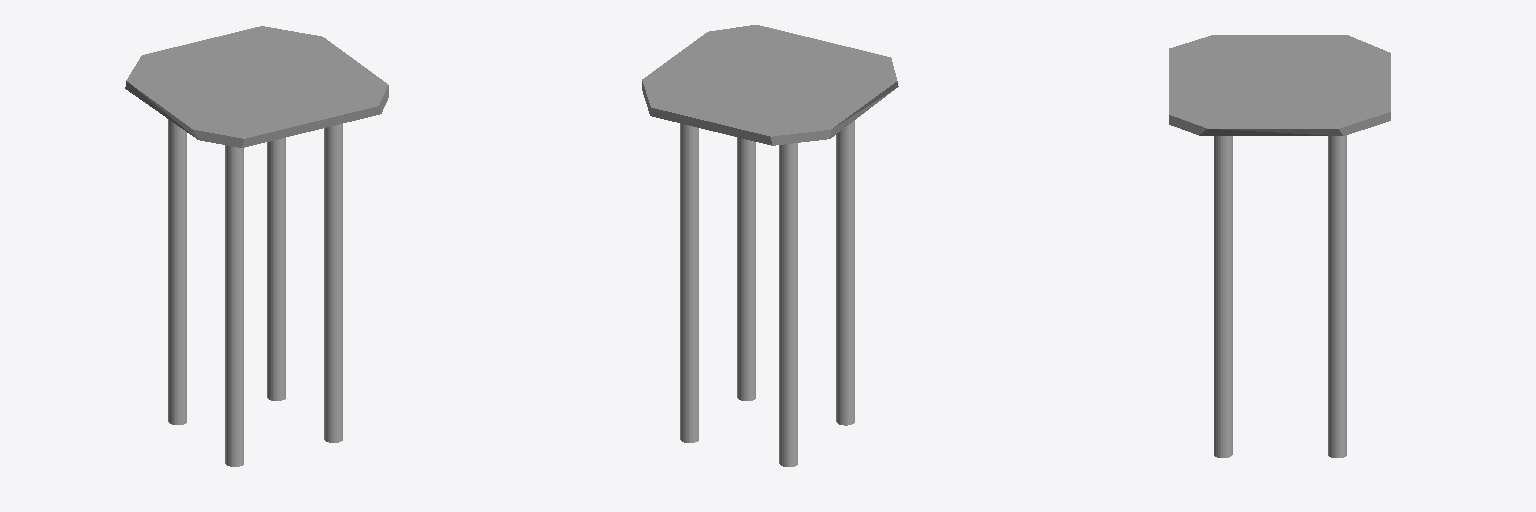
The model's file is Control_rods.obj.
The picture shows the model from 3 angles: view 1: azimuth 30°, elevation 25°; view 2: azimuth 150°, elevation 25°; view 3: azimuth 270°, elevation 25°; orthographic projection.
Visible parts, largest first — view 1: Cube, Cylinder.001_Cylinder.002, Cylinder_Cylinder.001, Cylinder.003_Cylinder.004, Cylinder.002_Cylinder.003; view 2: Cube, Cylinder.003_Cylinder.004, Cylinder.002_Cylinder.003, Cylinder.001_Cylinder.002, Cylinder_Cylinder.001; view 3: Cube, Cylinder.002_Cylinder.003, Cylinder_Cylinder.001.
Part boxes in pixels (bbox=[...]): Cube: bbox=[125, 26, 388, 147]; Cylinder.001_Cylinder.002: bbox=[225, 145, 243, 466]; Cylinder_Cylinder.001: bbox=[324, 124, 342, 442]; Cylinder.003_Cylinder.004: bbox=[168, 119, 186, 424]; Cylinder.002_Cylinder.003: bbox=[267, 138, 285, 400]; Cube: bbox=[642, 25, 898, 145]; Cylinder.003_Cylinder.004: bbox=[779, 143, 797, 466]; Cylinder.002_Cylinder.003: bbox=[680, 123, 698, 442]; Cylinder.001_Cylinder.002: bbox=[836, 120, 854, 425]; Cylinder_Cylinder.001: bbox=[737, 137, 755, 400]; Cube: bbox=[1169, 35, 1390, 135]; Cylinder.002_Cylinder.003: bbox=[1328, 135, 1346, 457]; Cylinder_Cylinder.001: bbox=[1214, 136, 1232, 457].
Size of the model in its own units: 1.17 by 2.02 by 1.17.